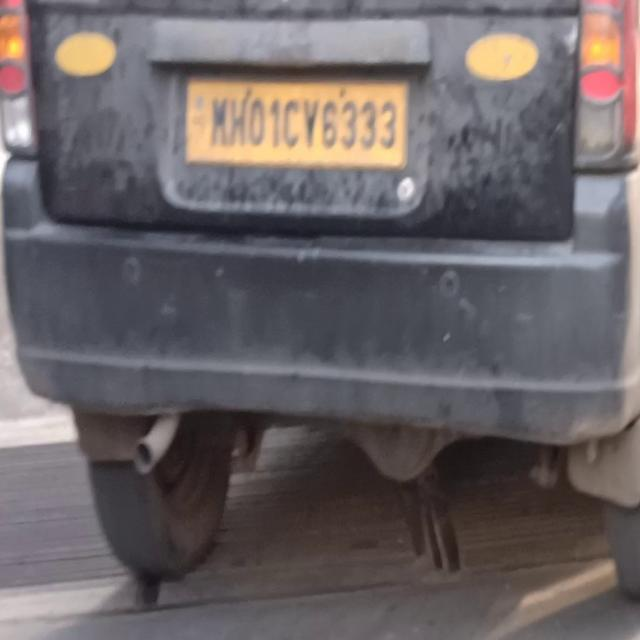Plate: (184, 74, 409, 171)
